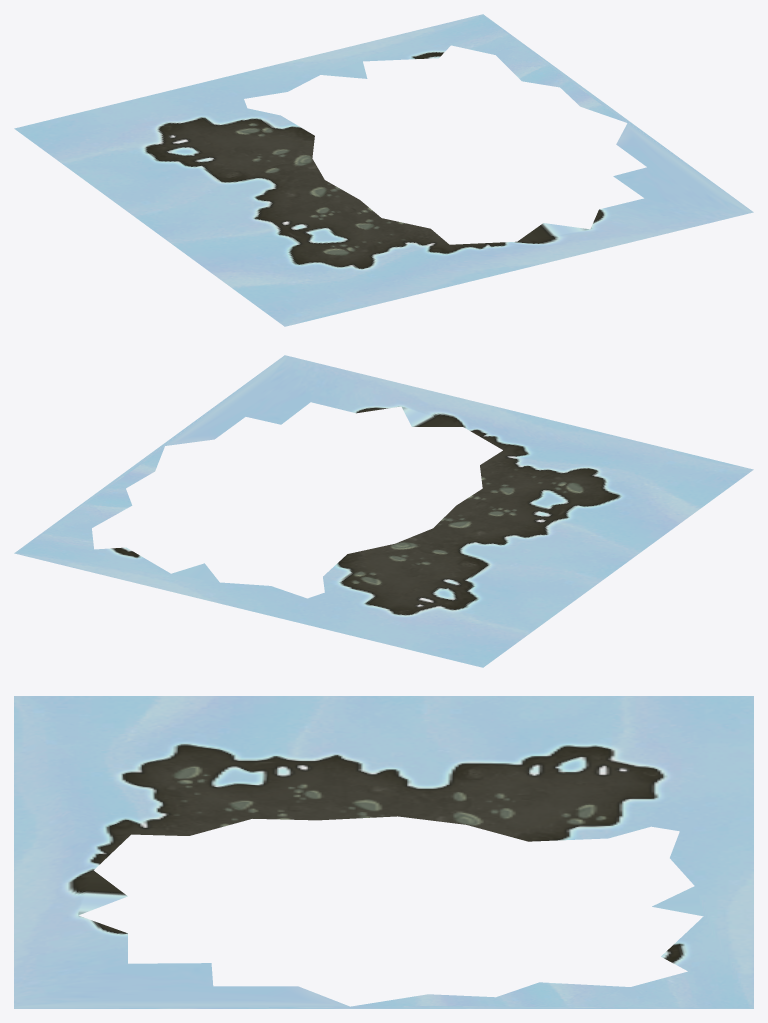
Rendered from 900032_map_tile_kuang.FBX.
3 views of the same model, one above another, from view 1: azimuth 30°, elevation 25°; view 2: azimuth 150°, elevation 25°; view 3: azimuth 270°, elevation 25° (orthographic). The views are drawn at different scales.
Visible parts, largest first — view 1: 900001_map_tile_kuang; view 2: 900001_map_tile_kuang; view 3: 900001_map_tile_kuang.
Boxes of the visible parts, box(x1,y1,x2,y2) form: 900001_map_tile_kuang: box(14, 14, 753, 326); 900001_map_tile_kuang: box(14, 355, 753, 667); 900001_map_tile_kuang: box(14, 696, 753, 1008).
Bounding box in the file's own units: 900 × 3.93e-05 × 900.
